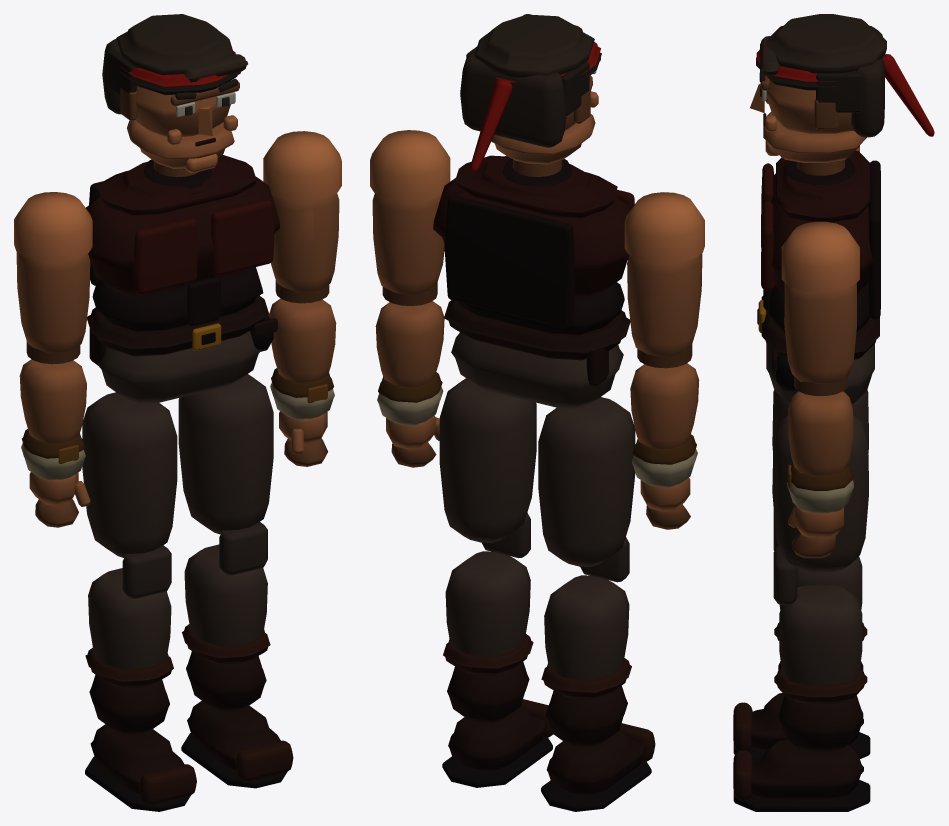
The model's file is PunhoBrasaBase.fbx.
3 views of the same model, side by side, from view 1: azimuth 30°, elevation 25°; view 2: azimuth 150°, elevation 25°; view 3: azimuth 270°, elevation 25° (orthographic). The views are drawn at different scales.
Visible parts, largest first — view 1: Body, LegR, LegL, ArmR, ArmL, Head; view 2: Body, LegR, LegL, ArmR, ArmL, Head; view 3: LegL, ArmL, Head, Body, LegR.
Boxes of the visible parts, x1,y1,x2,y2 form: Body: (86, 154, 279, 403); LegR: (82, 392, 196, 811); LegL: (178, 374, 293, 788); ArmR: (14, 192, 92, 527); ArmL: (263, 131, 341, 466); Head: (102, 14, 247, 177); Body: (433, 155, 634, 408); LegR: (538, 397, 655, 811); LegL: (439, 378, 553, 787); ArmR: (624, 192, 704, 529); ArmL: (370, 130, 450, 467); Head: (460, 14, 601, 176); LegL: (733, 414, 870, 811); ArmL: (781, 221, 859, 558); Head: (750, 14, 934, 175); Body: (757, 150, 880, 404); LegR: (733, 390, 870, 758).
Bounding box in the file's own units: 0.7867 × 1.74 × 0.4281.
